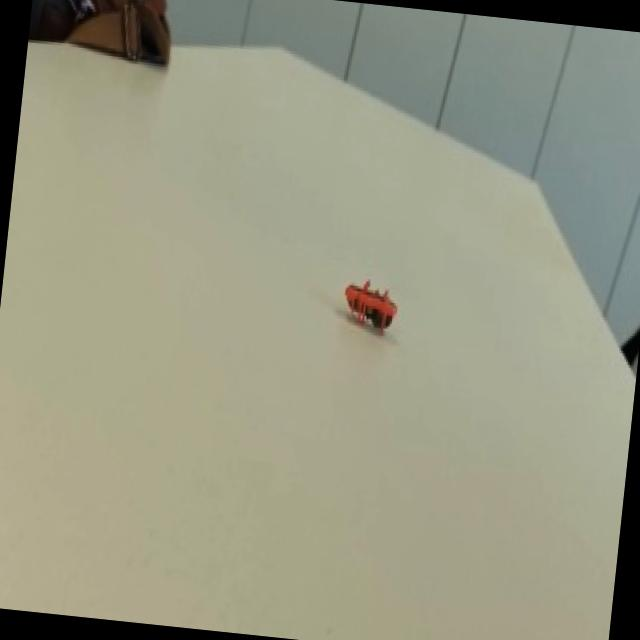7_NanoBug_Naranja: (314, 262, 399, 352)
